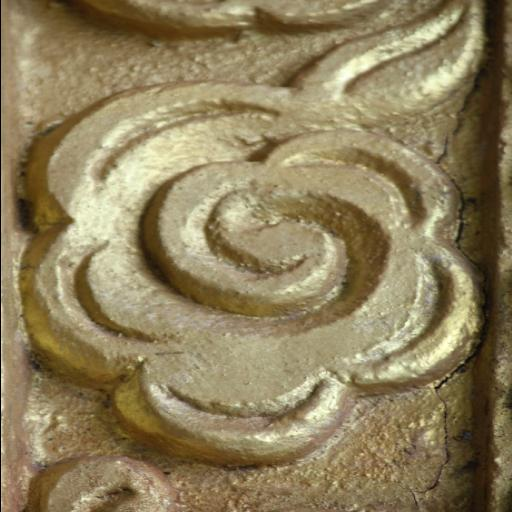la: (13, 86, 481, 464)
